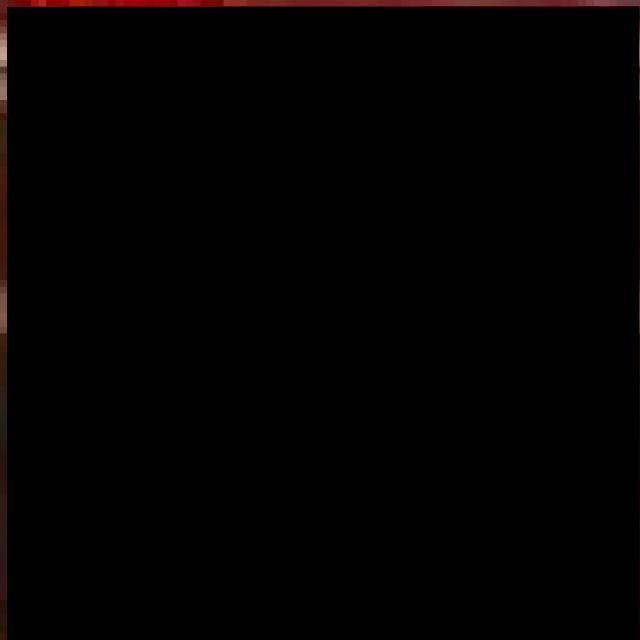fire: (7, 6, 640, 640)
